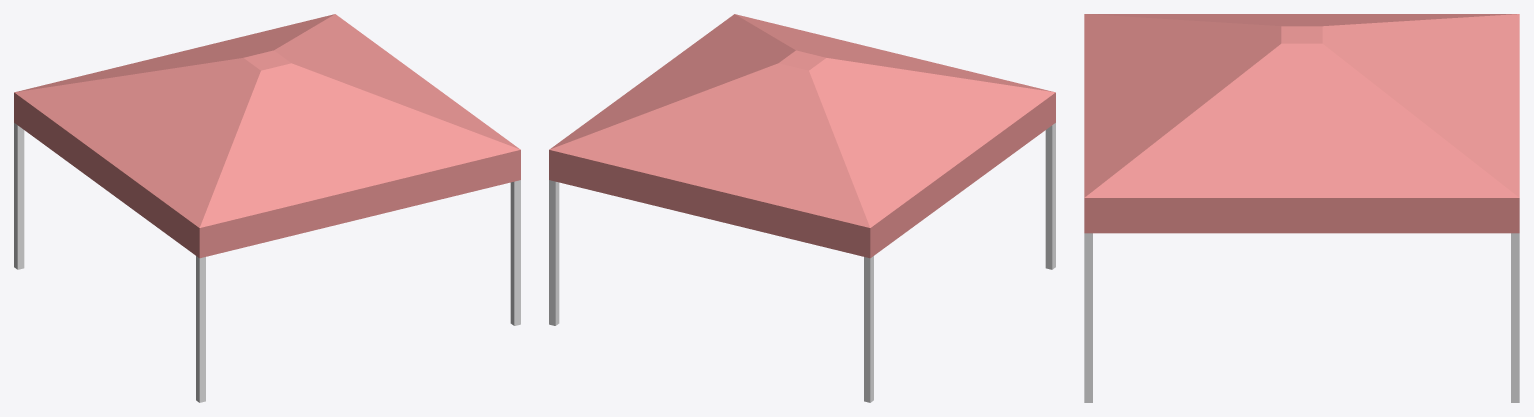
Rendered from tent.glb.
3 views of the same model, side by side, from view 1: azimuth 30°, elevation 25°; view 2: azimuth 150°, elevation 25°; view 3: azimuth 270°, elevation 25° (orthographic). The views are drawn at different scales.
Parts seen in each view (by area): view 1: tent(Clone); view 2: tent(Clone); view 3: tent(Clone).
Boxes of the visible parts, x1,y1,x2,y2 form: tent(Clone): (14, 14, 520, 402); tent(Clone): (549, 14, 1055, 402); tent(Clone): (1084, 14, 1519, 402).
Size of the model in its own units: 1 by 0.7 by 1.
Materials: 1 (1 with a texture image).
